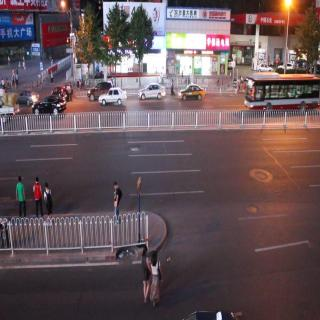BigCar: (246, 76, 320, 114)
Car: (33, 96, 66, 116), (99, 86, 128, 108), (138, 82, 166, 103), (178, 83, 205, 104), (17, 87, 37, 106), (256, 59, 273, 76)
